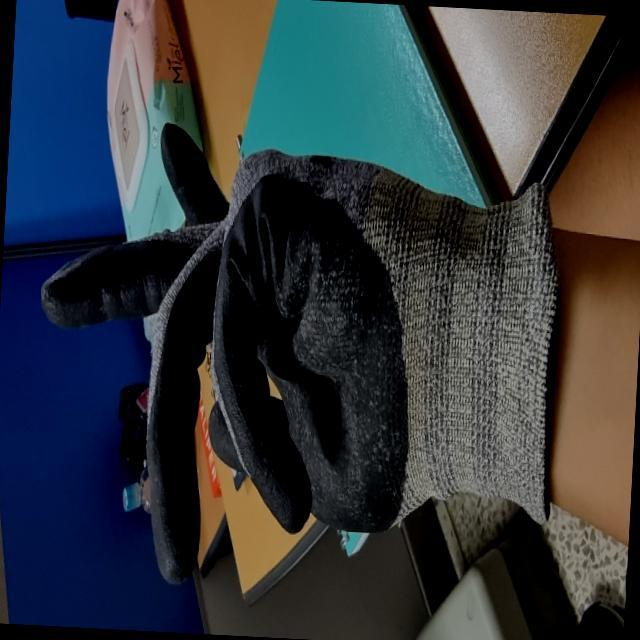Gloves: (42, 137, 515, 590)
